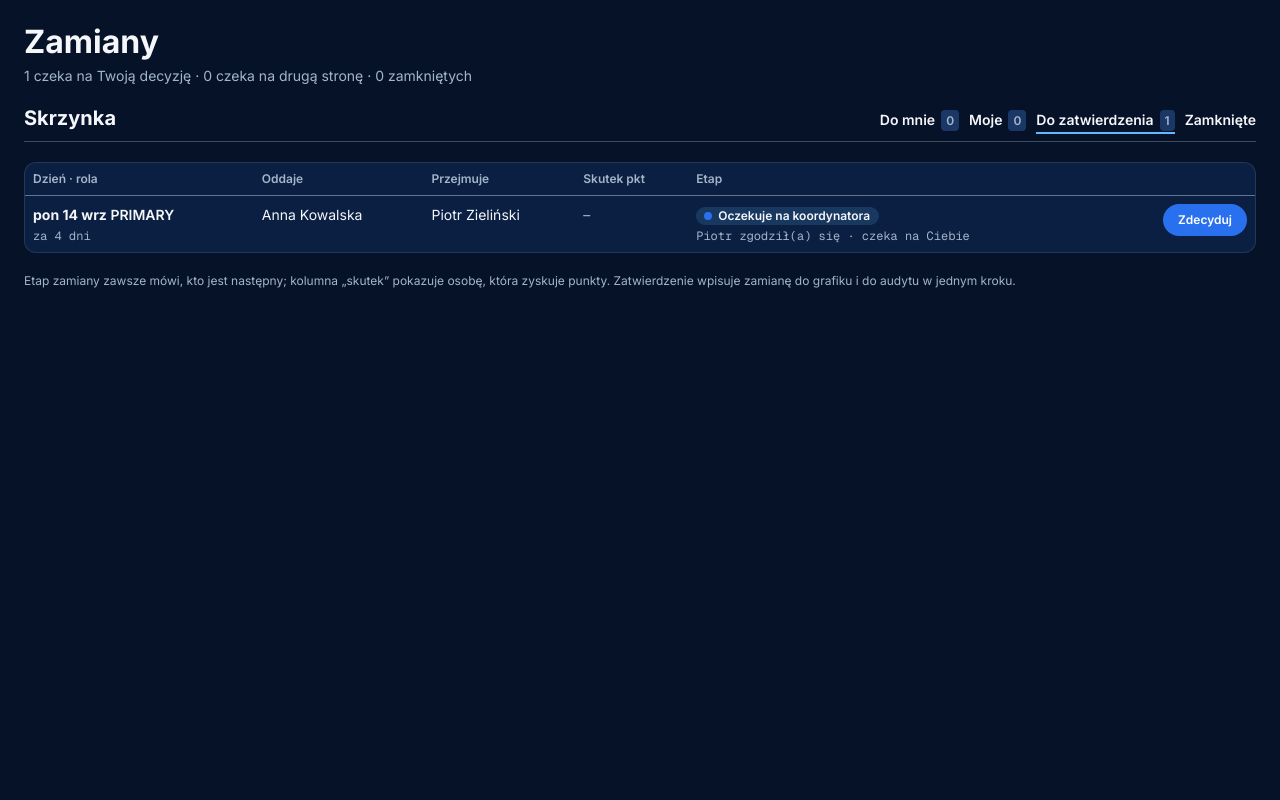
Scenario: SwapPanel inbox › lands a coordinator on "Do zatwierdzenia" and approves from the sheet
The width and height of the screenshot is (1280, 800).
What coordinates should you click on to do the following:
click the button "Zdecyduj"
I would click on:
 (1205, 220)
Its box is [1163,204,1247,236].
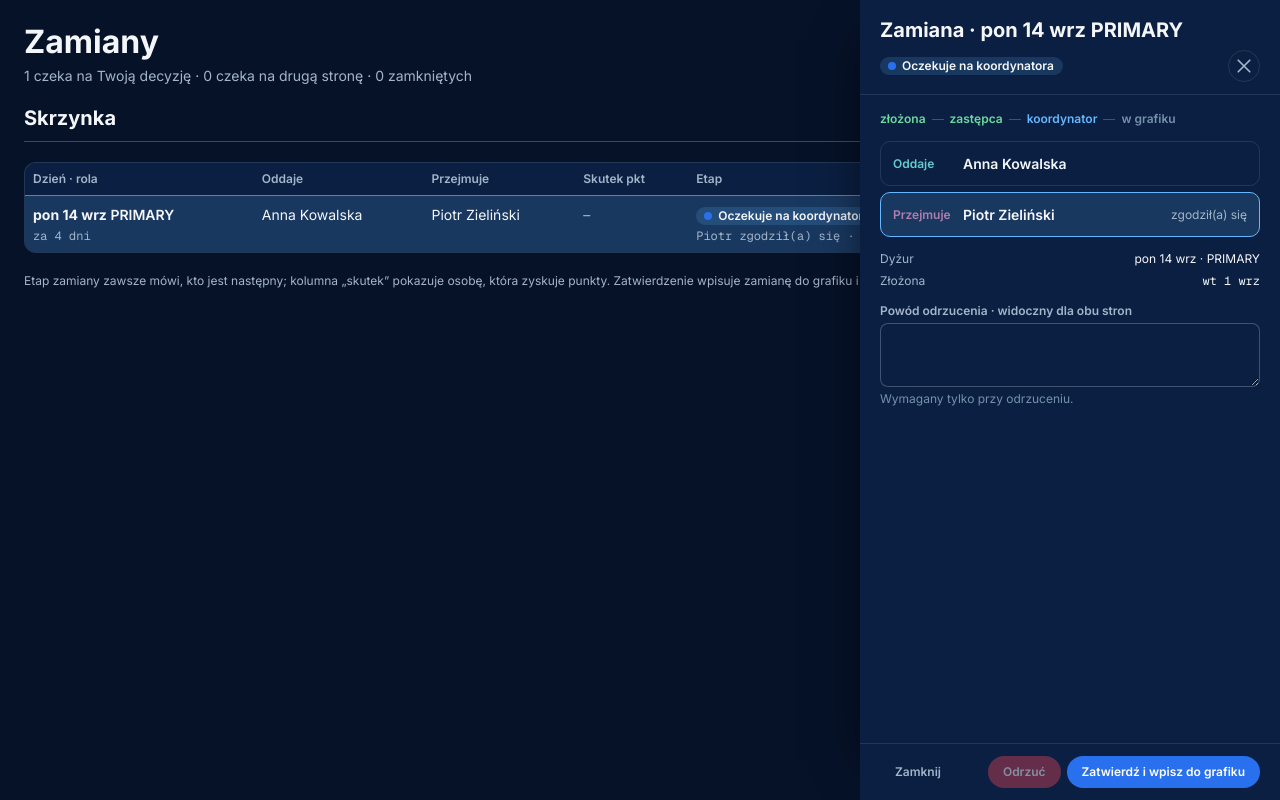
Expected: the text "Piotr zgodził(a) się · czeka na Ciebie" is shown, [696,228,970,244]
What coordinates should you click on to do the following:
click the button "Zatwierdź i wpisz do grafiku"
I would click on:
 (1163, 772)
Its box is [1066,756,1260,788].
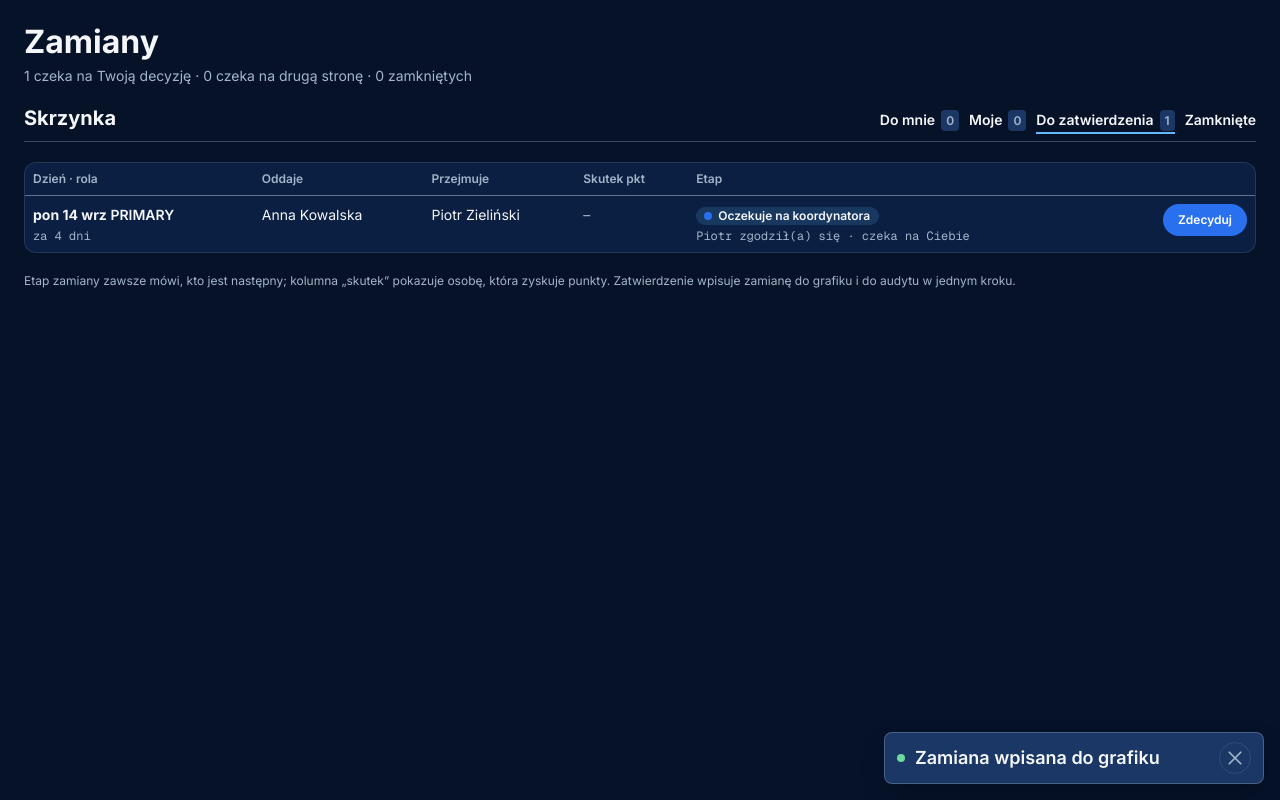
Expected: the heading "Zamiana wpisana do grafiku" is shown, [915,747,1160,768]
